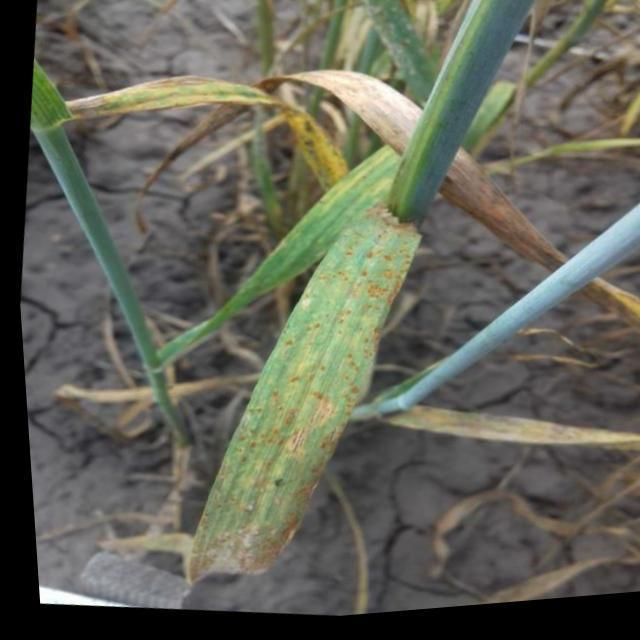Septoria: (177, 197, 415, 584)
